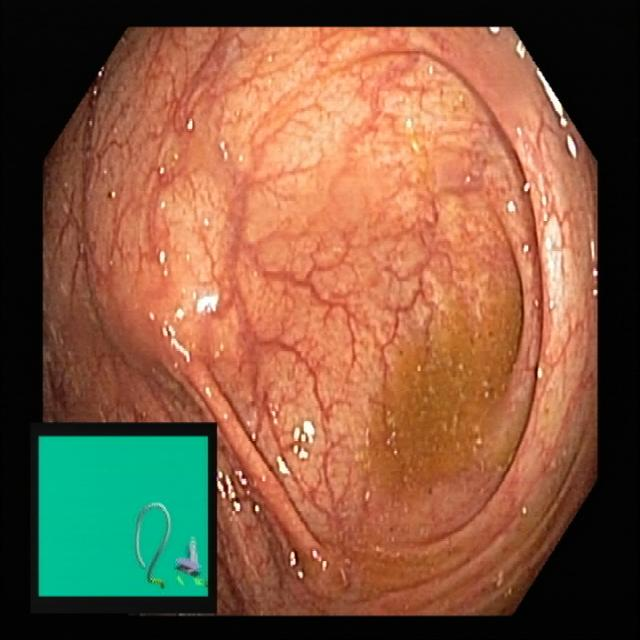normal-cecum: (340, 275, 540, 526), (382, 57, 483, 206)
